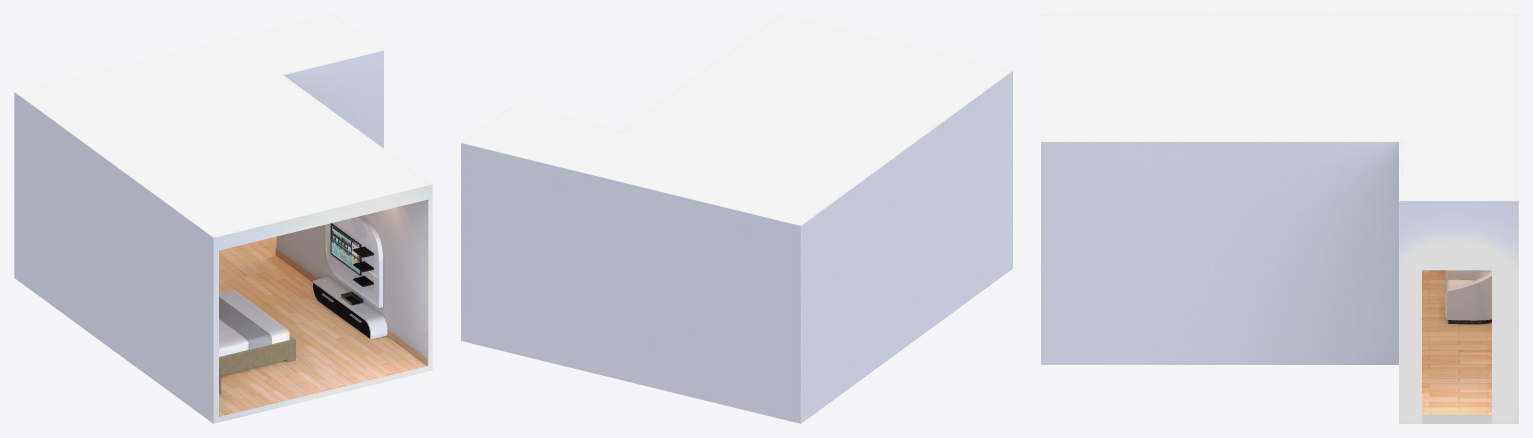
Rendered from yuri-bedroom.glb.
3 renders of one model, left to right at view 1: azimuth 30°, elevation 25°; view 2: azimuth 150°, elevation 25°; view 3: azimuth 270°, elevation 25°, orthographic. The views are drawn at different scales.
Visible parts, largest first — view 1: bedroom:Floor, bedroom:WhiteGloss, bedroom:Ceiling, bedroom:Bed_sheet, bedroom:Wood_0, bedroom:BlackGloss, bedroom:pillow, bedroom:LCD_Screen, bedroom:Scerting_Scerting; view 2: bedroom:Floor; view 3: bedroom:Floor, bedroom:Febric.
Part boxes in pixels (x1=…): bedroom:Floor: x1=14, y1=14, x2=432, y2=423; bedroom:WhiteGloss: x1=313, y1=216, x2=387, y2=339; bedroom:Ceiling: x1=219, y1=191, x2=428, y2=250; bedroom:Bed_sheet: x1=219, y1=290, x2=290, y2=356; bedroom:Wood_0: x1=219, y1=336, x2=295, y2=375; bedroom:BlackGloss: x1=313, y1=246, x2=373, y2=338; bedroom:pillow: x1=219, y1=297, x2=271, y2=349; bedroom:LCD_Screen: x1=331, y1=224, x2=359, y2=274; bedroom:Scerting_Scerting: x1=219, y1=247, x2=428, y2=416; bedroom:Floor: x1=461, y1=14, x2=1012, y2=423; bedroom:Floor: x1=1041, y1=14, x2=1518, y2=423; bedroom:Febric: x1=1445, y1=270, x2=1491, y2=324.
Bounding box in the file's own units: 4.89 × 2.72 × 5.28.
Materials: 24 (24 with a texture image).
